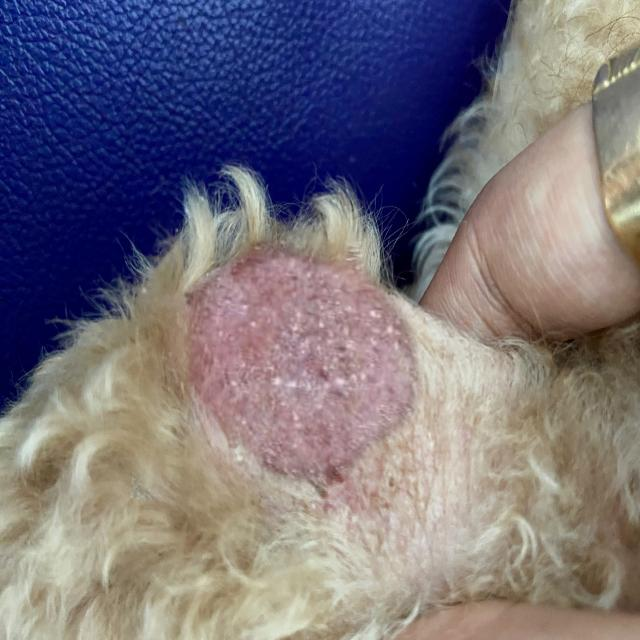ringworm: (190, 222, 430, 511)
